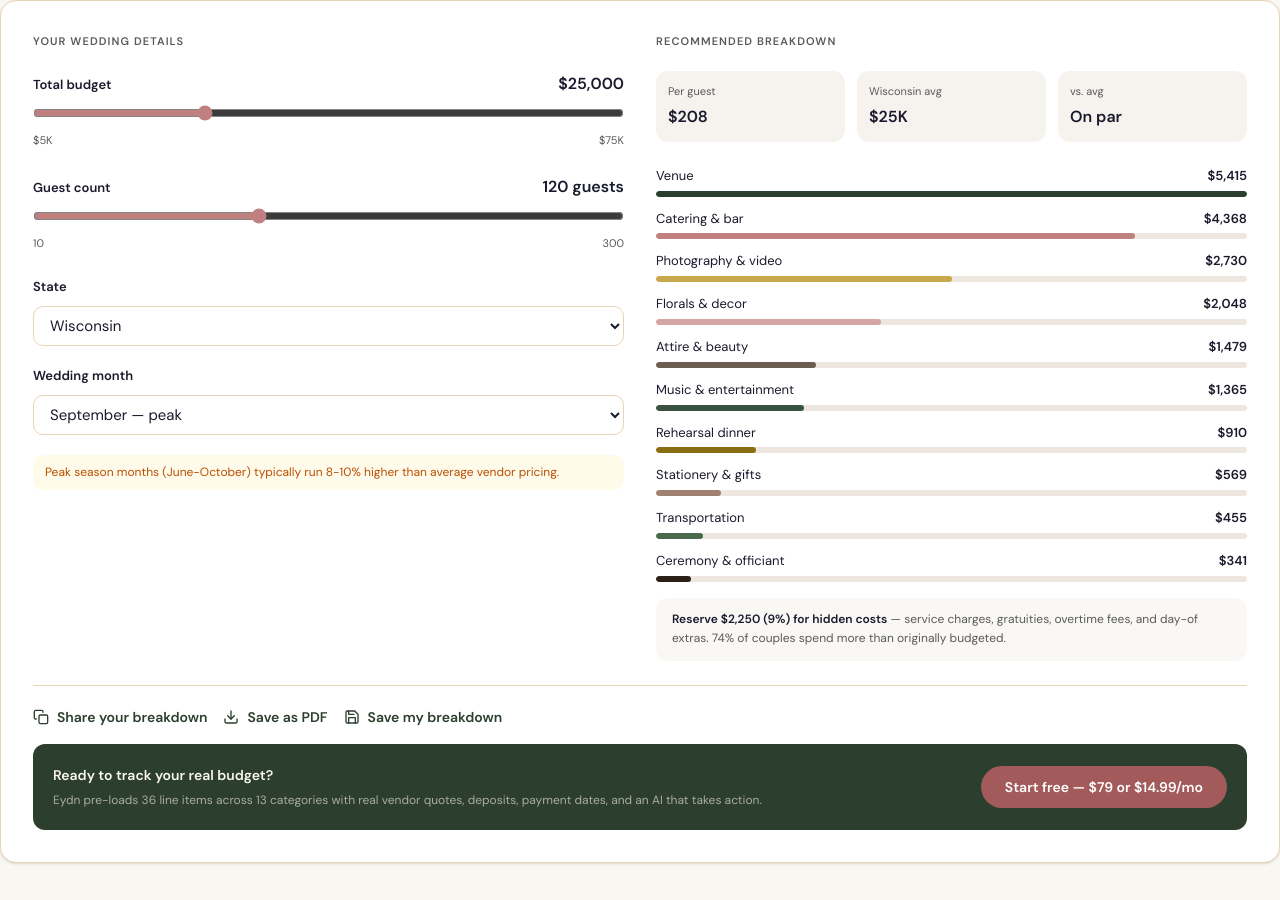
Test: WeddingBudgetCalculator › shows shoulder season with no note for April
Select "April — shoulder" in the dropdown named "Wedding month": {"x": 328, "y": 415} [33,395,624,435]
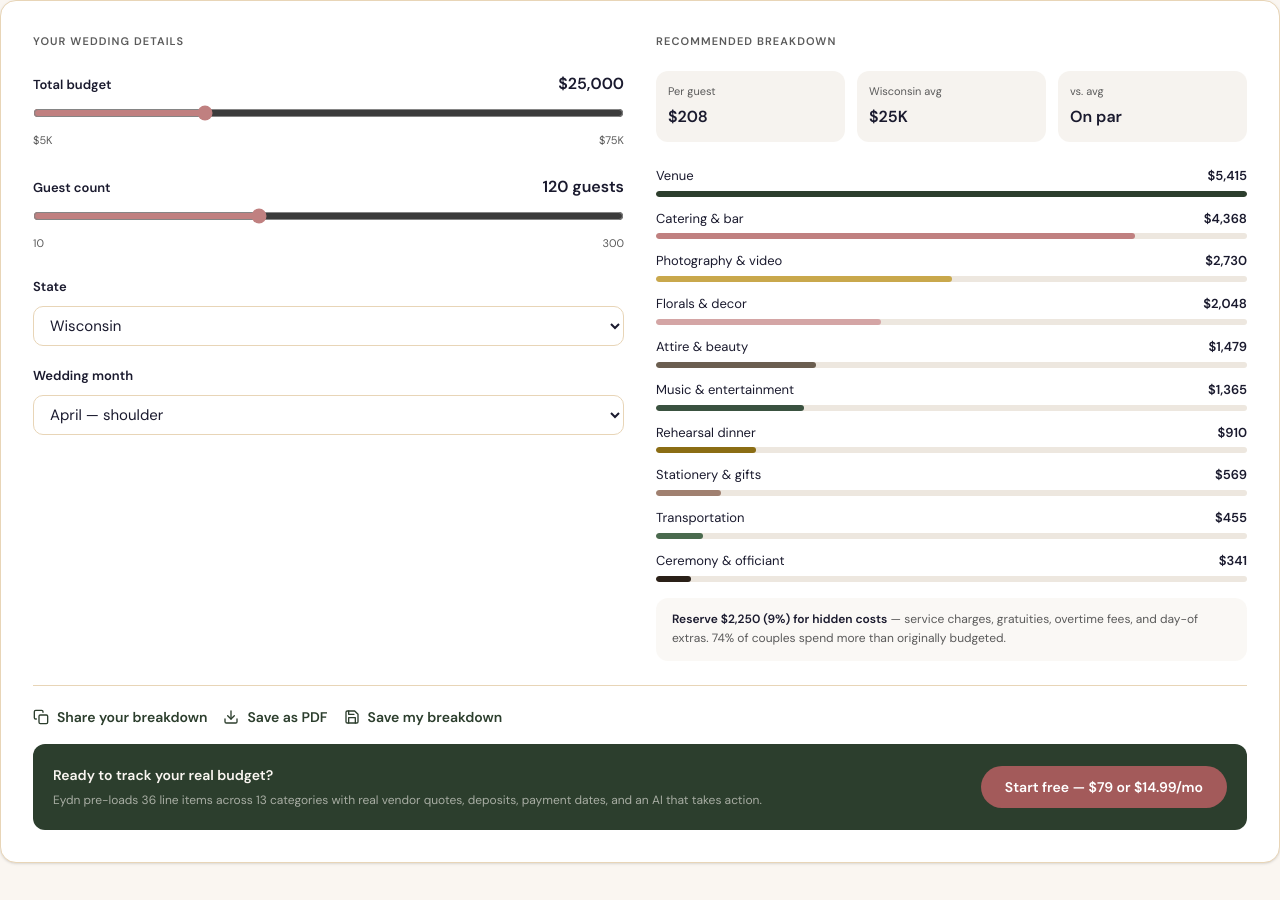
Expected: the text "Peak season months" is gone
